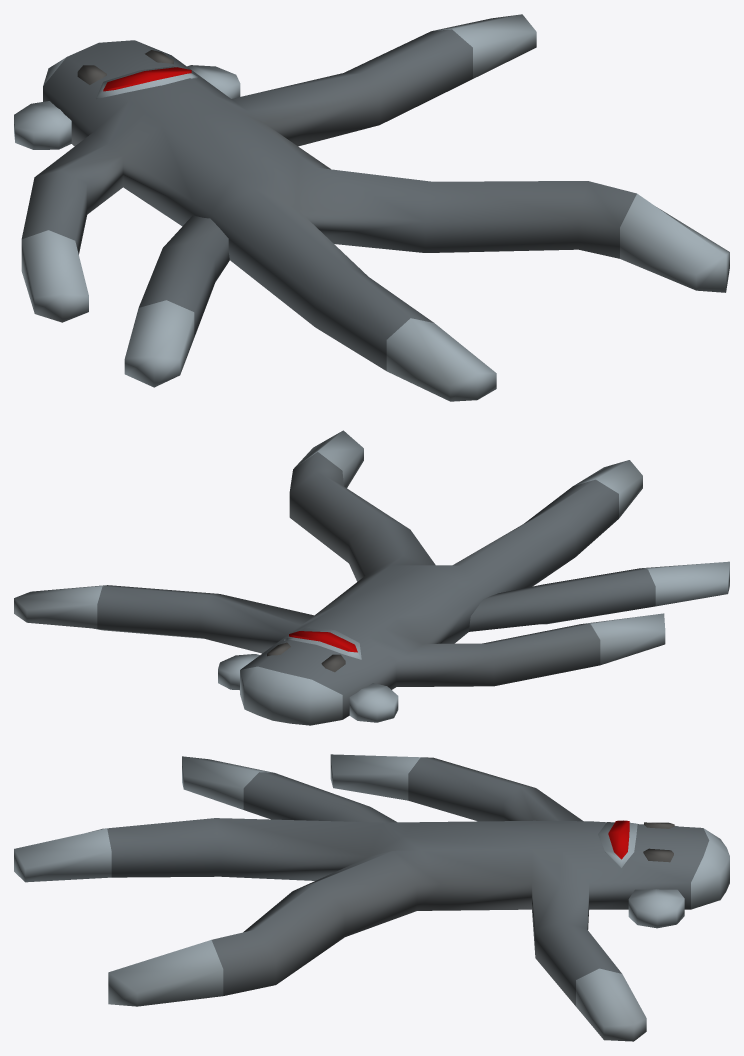
Rendered from MacacoMeia.fbx.
3 renders of one model, top to bottom at view 1: azimuth 30°, elevation 25°; view 2: azimuth 150°, elevation 25°; view 3: azimuth 270°, elevation 25°, orthographic. The views are drawn at different scales.
Visible parts, largest first — view 1: MacacoMeia; view 2: MacacoMeia; view 3: MacacoMeia.
Part boxes in pixels (x1=…): MacacoMeia: x1=14, y1=14, x2=729, y2=401; MacacoMeia: x1=14, y1=430, x2=729, y2=725; MacacoMeia: x1=14, y1=754, x2=729, y2=1041.
Bounding box in the file's own units: 44.16 × 4.74 × 49.26.
